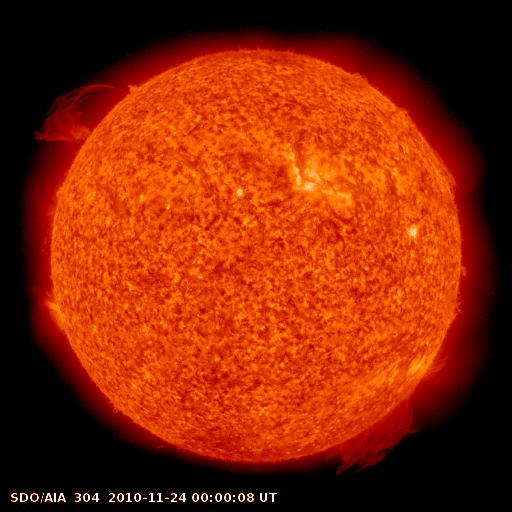prominence: (31, 72, 151, 153), (316, 391, 420, 480), (427, 289, 473, 376), (340, 61, 390, 98)
